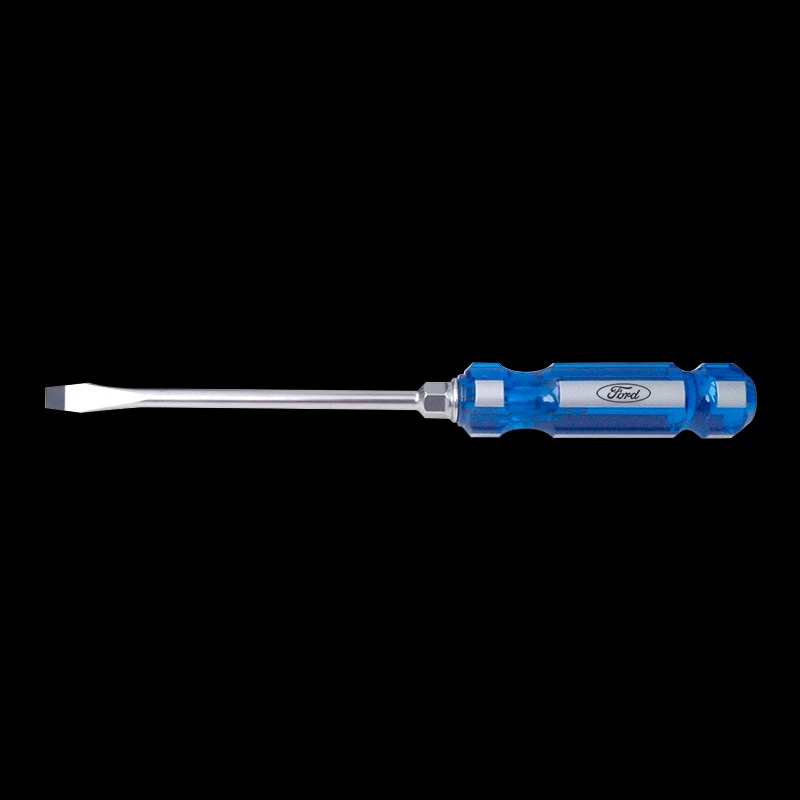screwdriver: (47, 354, 758, 454)
